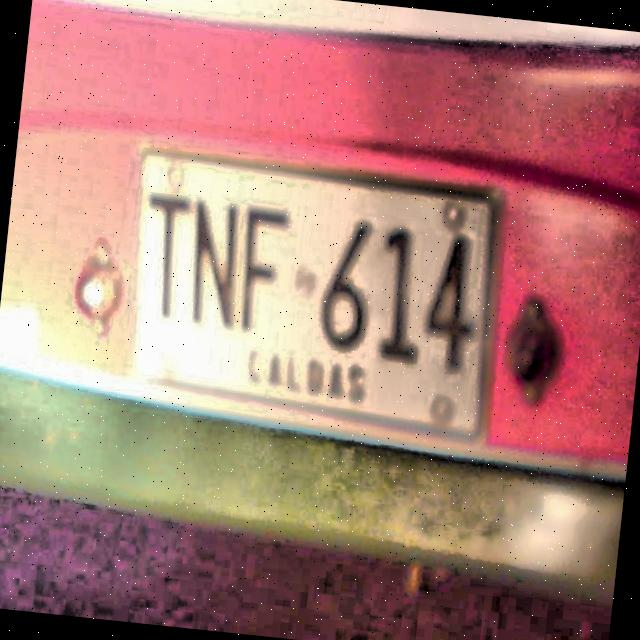1: (366, 223, 422, 366)
4: (418, 228, 480, 373)
6: (312, 216, 382, 357)
F: (235, 204, 294, 337)
N: (184, 195, 244, 332)
T: (144, 193, 192, 321)
